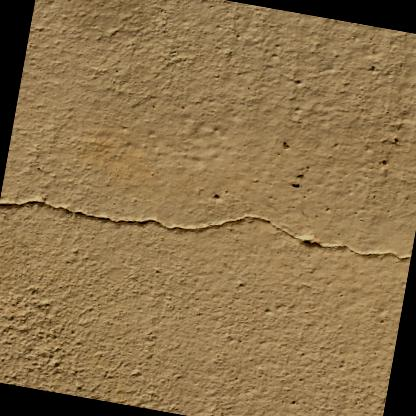crack: (0, 200, 411, 260)
